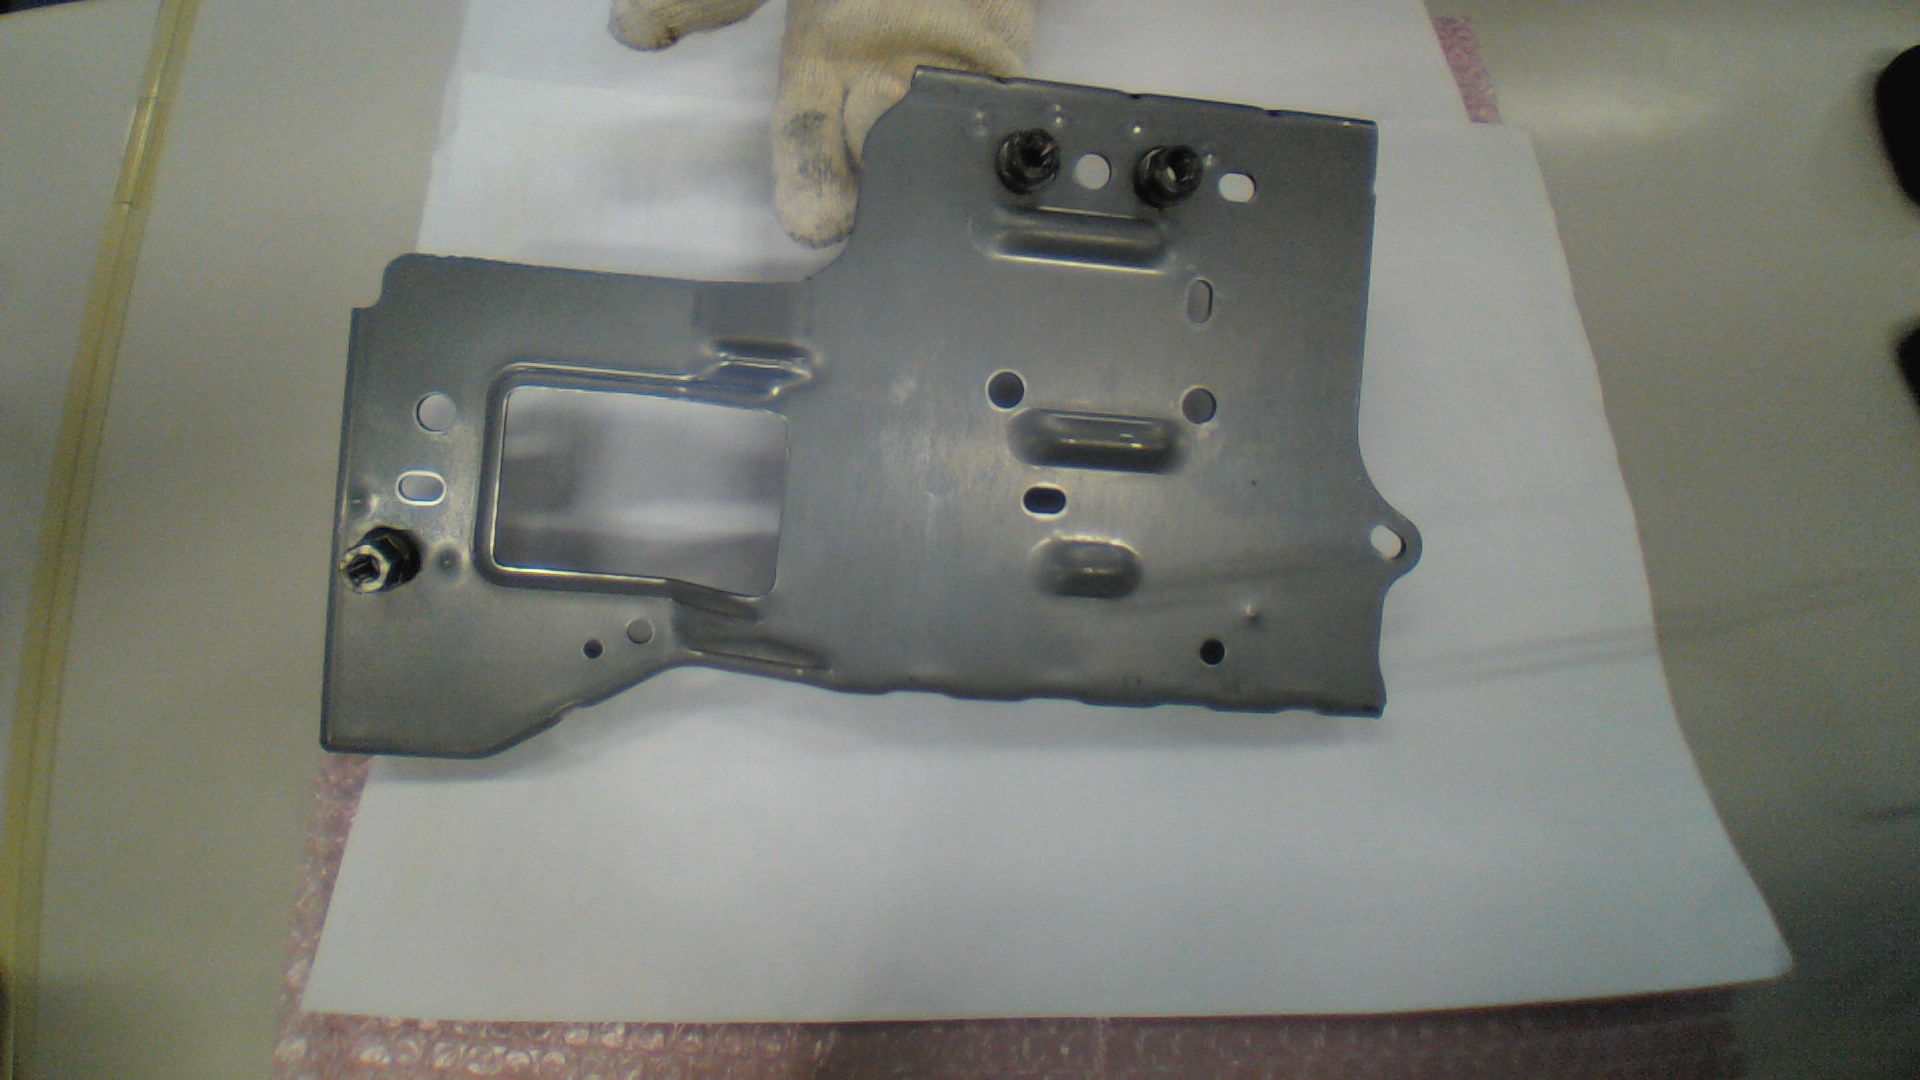dog: (335, 527, 423, 591), (1133, 142, 1201, 206), (996, 131, 1062, 194)
